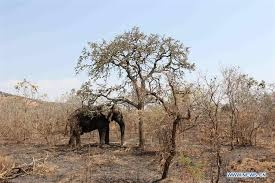elephant: (61, 101, 130, 148)
